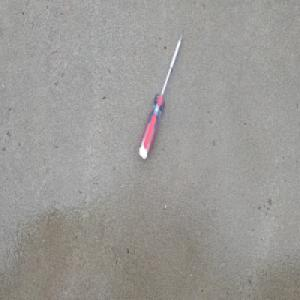Screwdriver: (137, 33, 184, 162)
